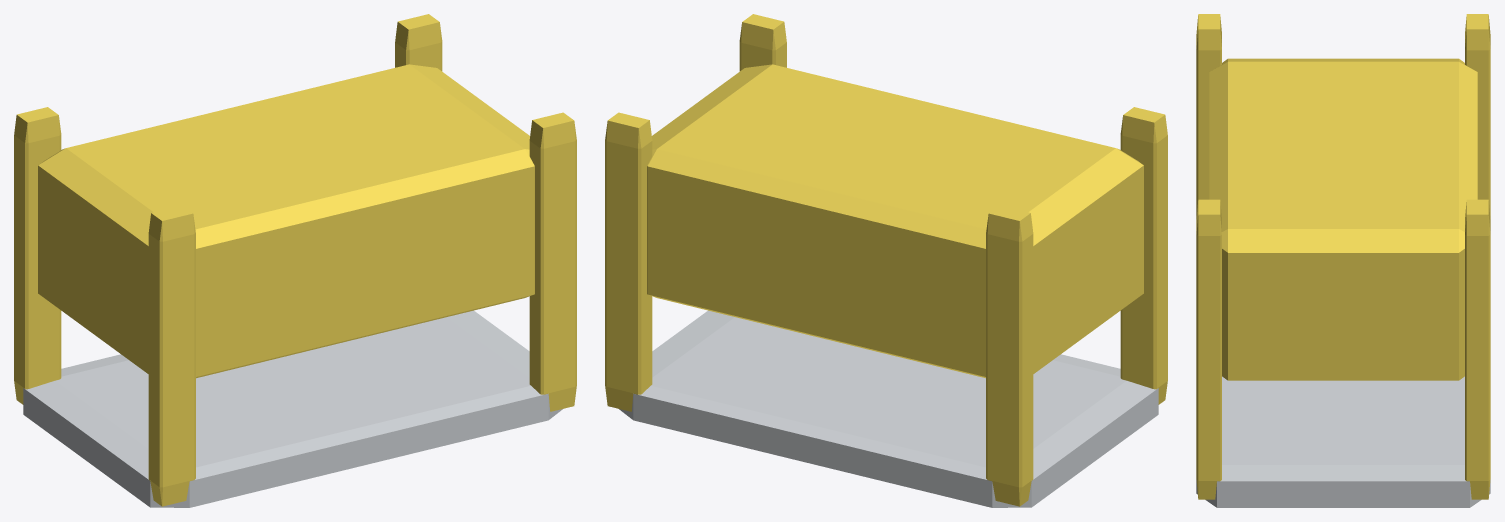
The model's file is b07_diesel_dewatering_pump_skid.glb.
3 renders of one model, left to right at view 1: azimuth 30°, elevation 25°; view 2: azimuth 150°, elevation 25°; view 3: azimuth 270°, elevation 25°, orthographic.
Visible parts, largest first — view 1: b07_diesel_dewatering_pump_skid; view 2: b07_diesel_dewatering_pump_skid; view 3: b07_diesel_dewatering_pump_skid.
Part boxes in pixels (x1,y1,x2,y2): b07_diesel_dewatering_pump_skid: (14,14,576,507); b07_diesel_dewatering_pump_skid: (605,14,1167,507); b07_diesel_dewatering_pump_skid: (1196,14,1490,507).
Bounding box in the file's own units: 1.85 × 1.25 × 1.13.
